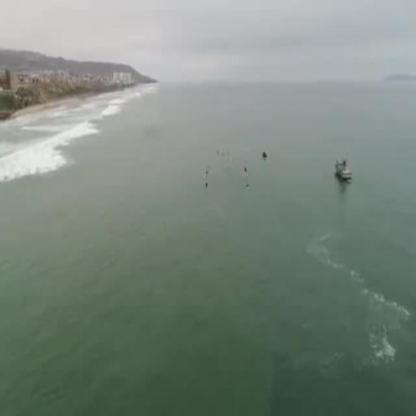Boat: (334, 156, 358, 187)
